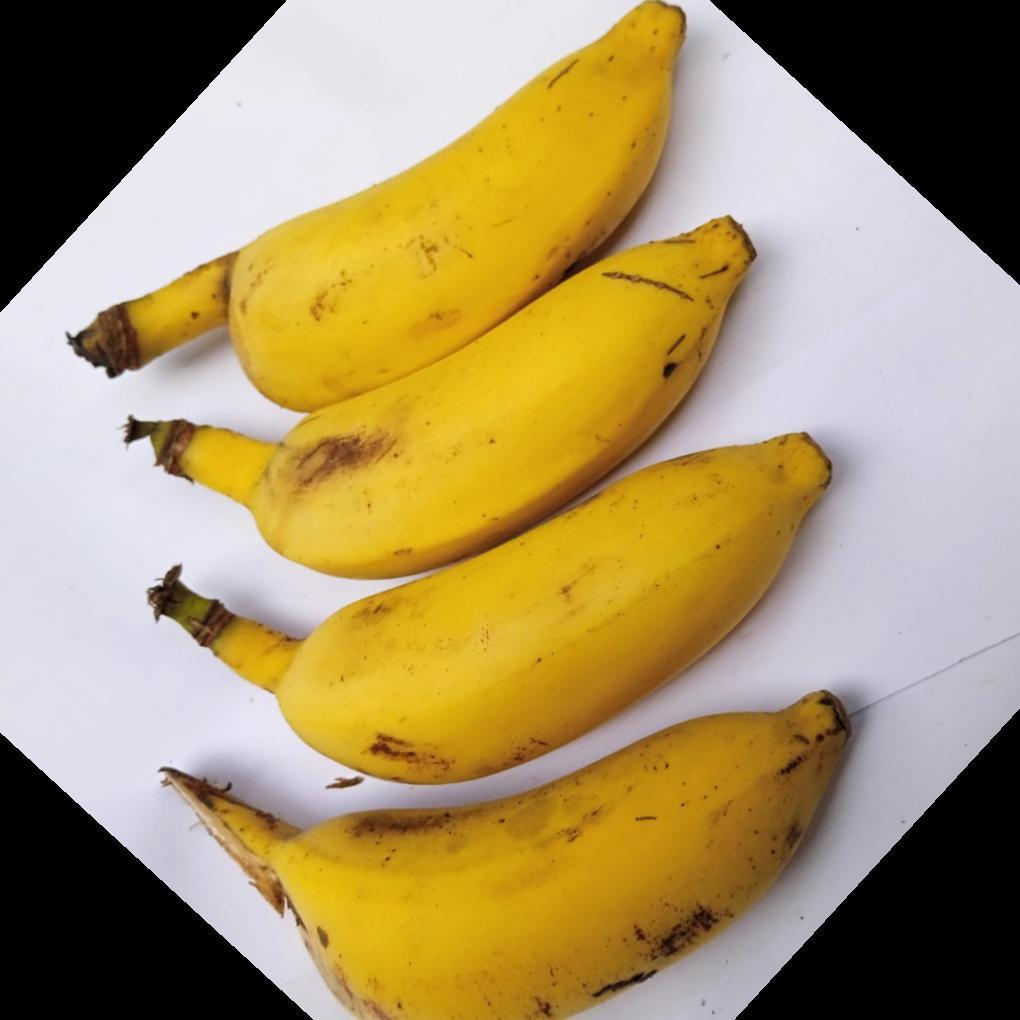Banana Ripe: (111, 3, 852, 1020)
